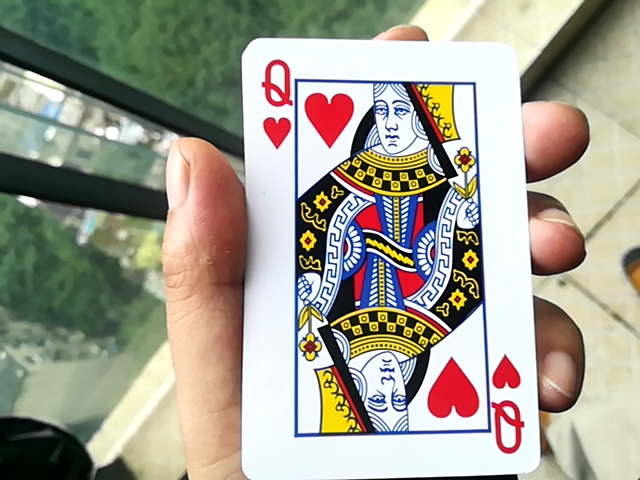hx q: (224, 40, 556, 479)
